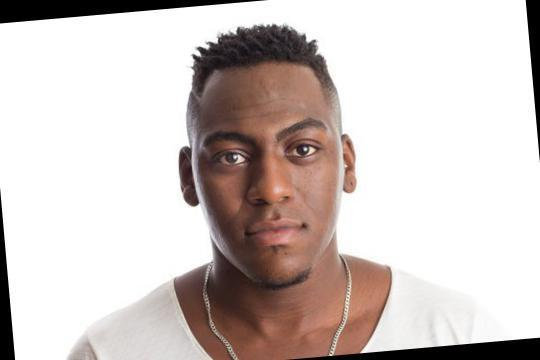Sober: (200, 67, 340, 269)
